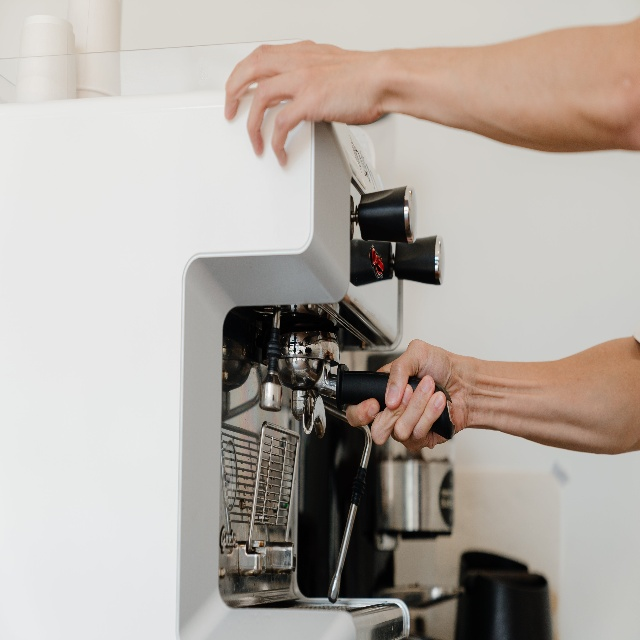Sin_guantes: (222, 37, 381, 169), (346, 333, 469, 449)
